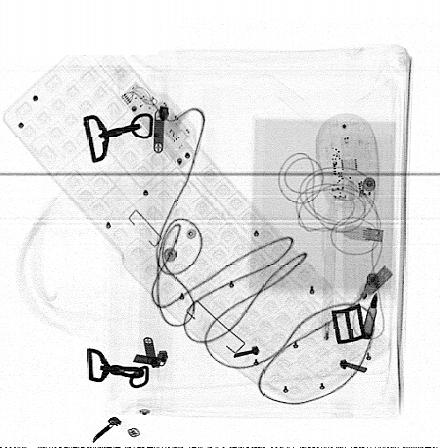Bullet: (361, 291, 378, 339)
